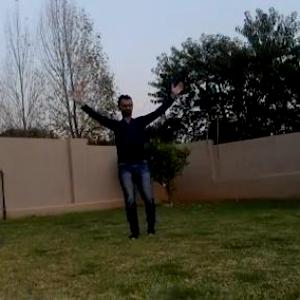takeoff: (74, 84, 189, 238)
